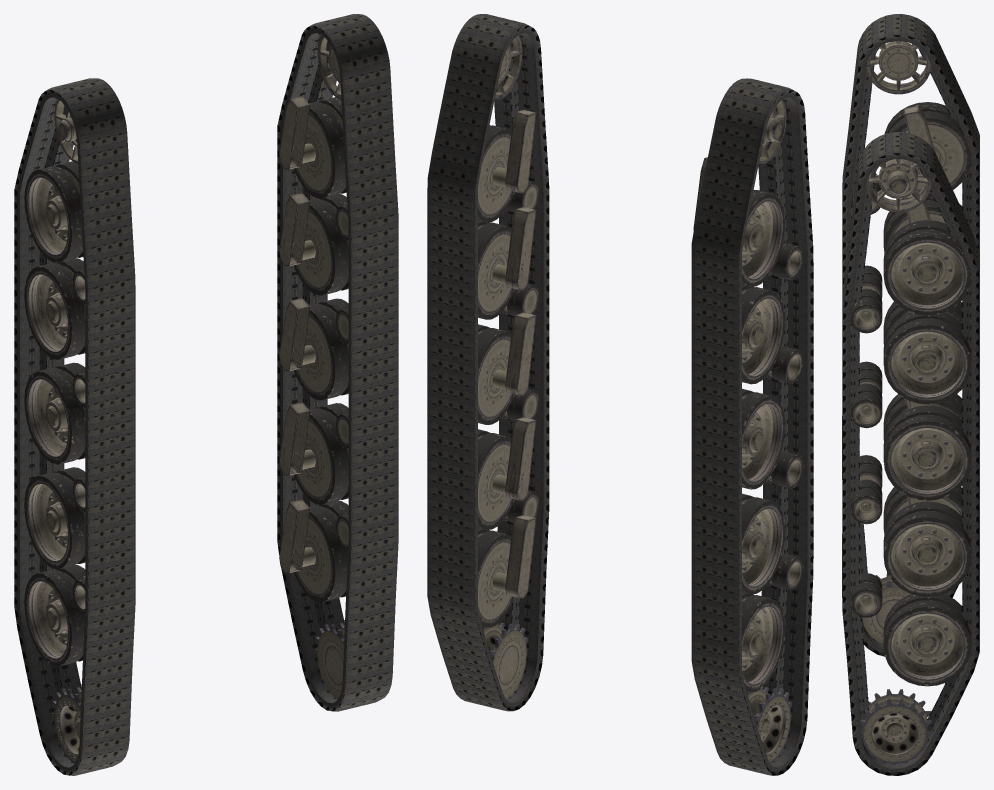
Rendered from Chassis.glb.
3 views of the same model, side by side, from view 1: azimuth 30°, elevation 25°; view 2: azimuth 150°, elevation 25°; view 3: azimuth 270°, elevation 25° (orthographic). The views are drawn at different scales.
Parts seen in each view (by area): view 1: set_1_group_0, set_0_group_0, set_2_group_0, set_3_group_0; view 2: set_1_group_0, set_0_group_0, set_2_group_0, set_3_group_0; view 3: set_2_group_0, set_0_group_0, set_3_group_0, set_1_group_0.
Part boxes in pixels (x1=…): set_1_group_0: x1=14, y1=78, x2=135, y2=775; set_0_group_0: x1=277, y1=14, x2=398, y2=711; set_2_group_0: x1=279, y1=35, x2=348, y2=699; set_3_group_0: x1=24, y1=99, x2=85, y2=763; set_1_group_0: x1=691, y1=78, x2=813, y2=775; set_0_group_0: x1=427, y1=14, x2=549, y2=711; set_2_group_0: x1=478, y1=35, x2=538, y2=699; set_3_group_0: x1=693, y1=99, x2=803, y2=763; set_2_group_0: x1=851, y1=159, x2=971, y2=763; set_0_group_0: x1=842, y1=132, x2=979, y2=775; set_3_group_0: x1=851, y1=41, x2=971, y2=643; set_1_group_0: x1=842, y1=14, x2=979, y2=656.
Size of the model in its own units: 3.01 by 6.29 by 1.26.
Materials: 4 (4 with a texture image).
